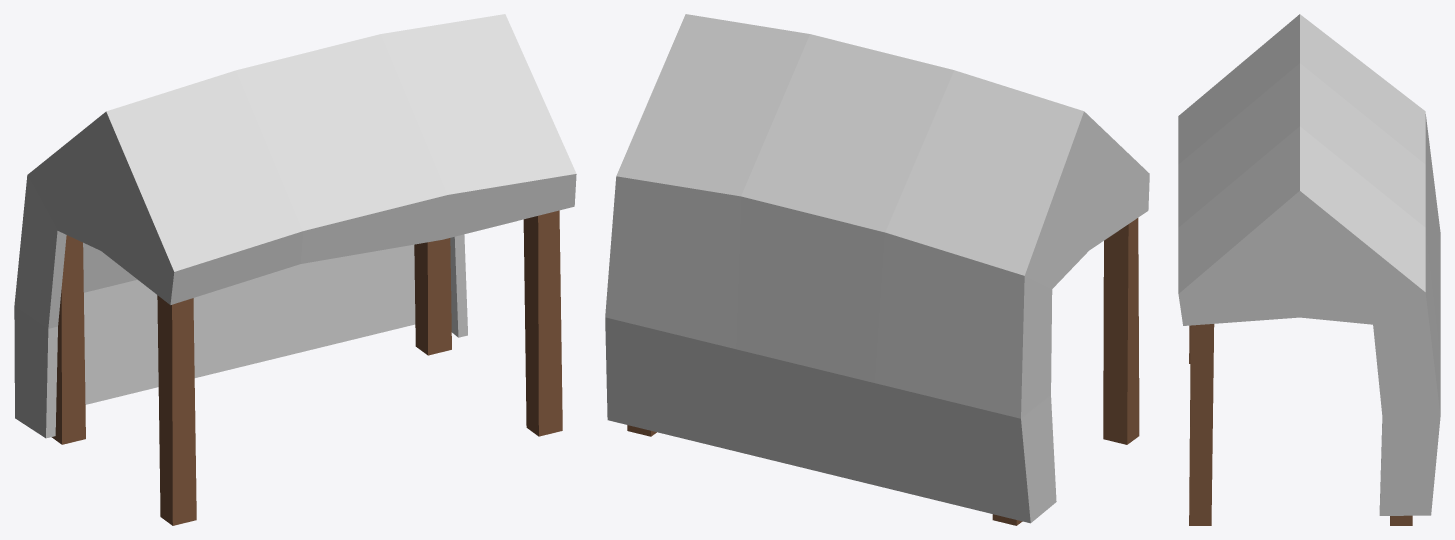
The model's file is MarketTent.fbx.
The picture shows the model from 3 angles, left to right: view 1: azimuth 30°, elevation 25°; view 2: azimuth 150°, elevation 25°; view 3: azimuth 270°, elevation 25°; orthographic projection. The views are drawn at different scales.
Parts seen in each view (by area): view 1: MarketTent; view 2: MarketTent; view 3: MarketTent.
Part boxes in pixels (x1=…): MarketTent: x1=14, y1=14, x2=576, y2=525; MarketTent: x1=605, y1=14, x2=1149, y2=525; MarketTent: x1=1178, y1=14, x2=1440, y2=525.
Size of the model in its own units: 359 by 308 by 211.
